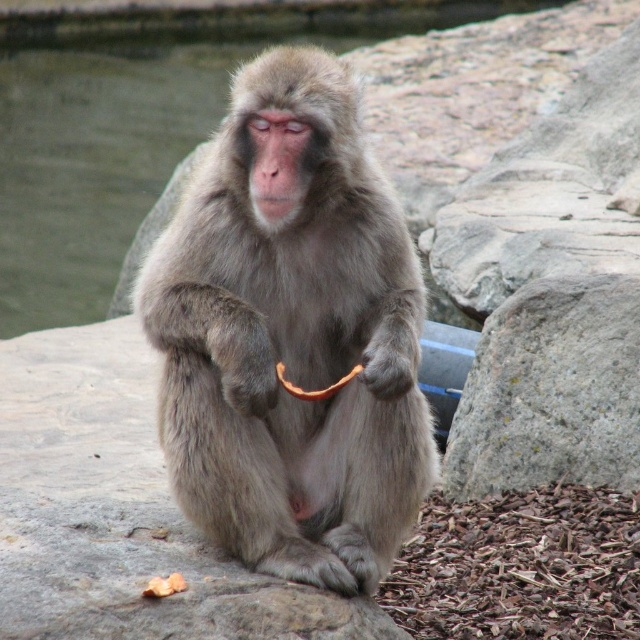Monkey: (108, 44, 436, 597)
